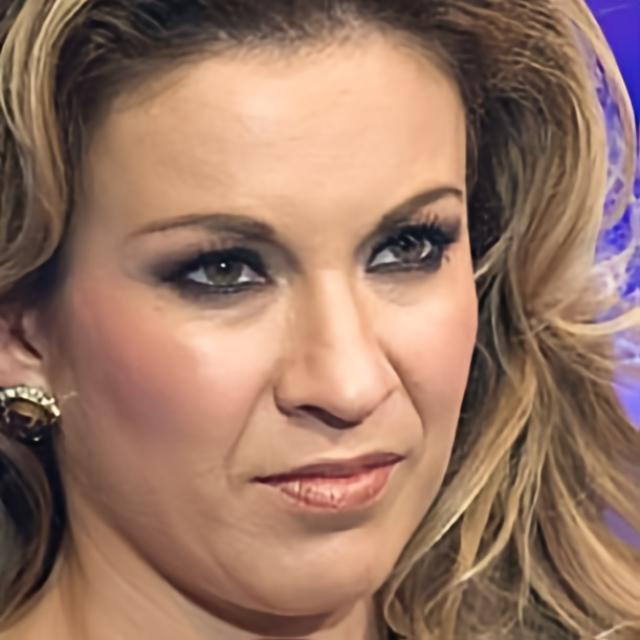disgust: (62, 22, 481, 620)
